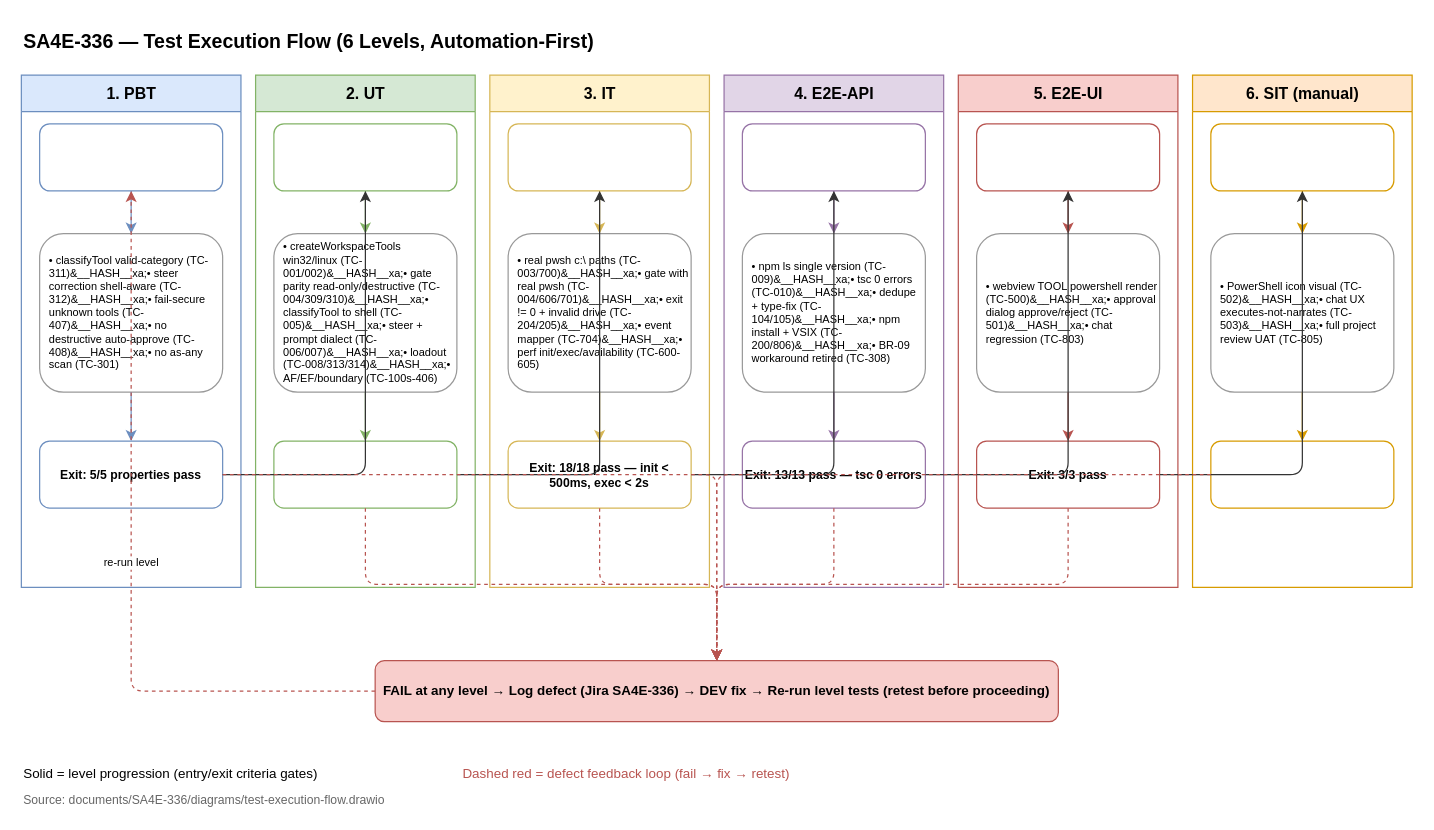
Some shapes in this 1434 by 830 pixel diagram are drawn without their labels. Each missing label, with the centre of its shape:
Entry: E2E-API exit + VSIX installed: pixel 1067 157
Entry: E2E-UI exit + extension v1.46.7 installed: pixel 1302 157
Entry: IT exit + real repo + npm registry: pixel 833 157
Entry: PBT exit + SDK 0.99.1 installed: pixel 365 157
Entry: properties defined (STC); fast-check installed: pixel 130 157
Entry: UT exit + npm ls single 0.99.1 + pwsh available: pixel 599 157
Exit: 34/34 pass — 0 skipped: pixel 365 474
Exit: UAT sign-off — 0 Critical/Major open: pixel 1302 474
